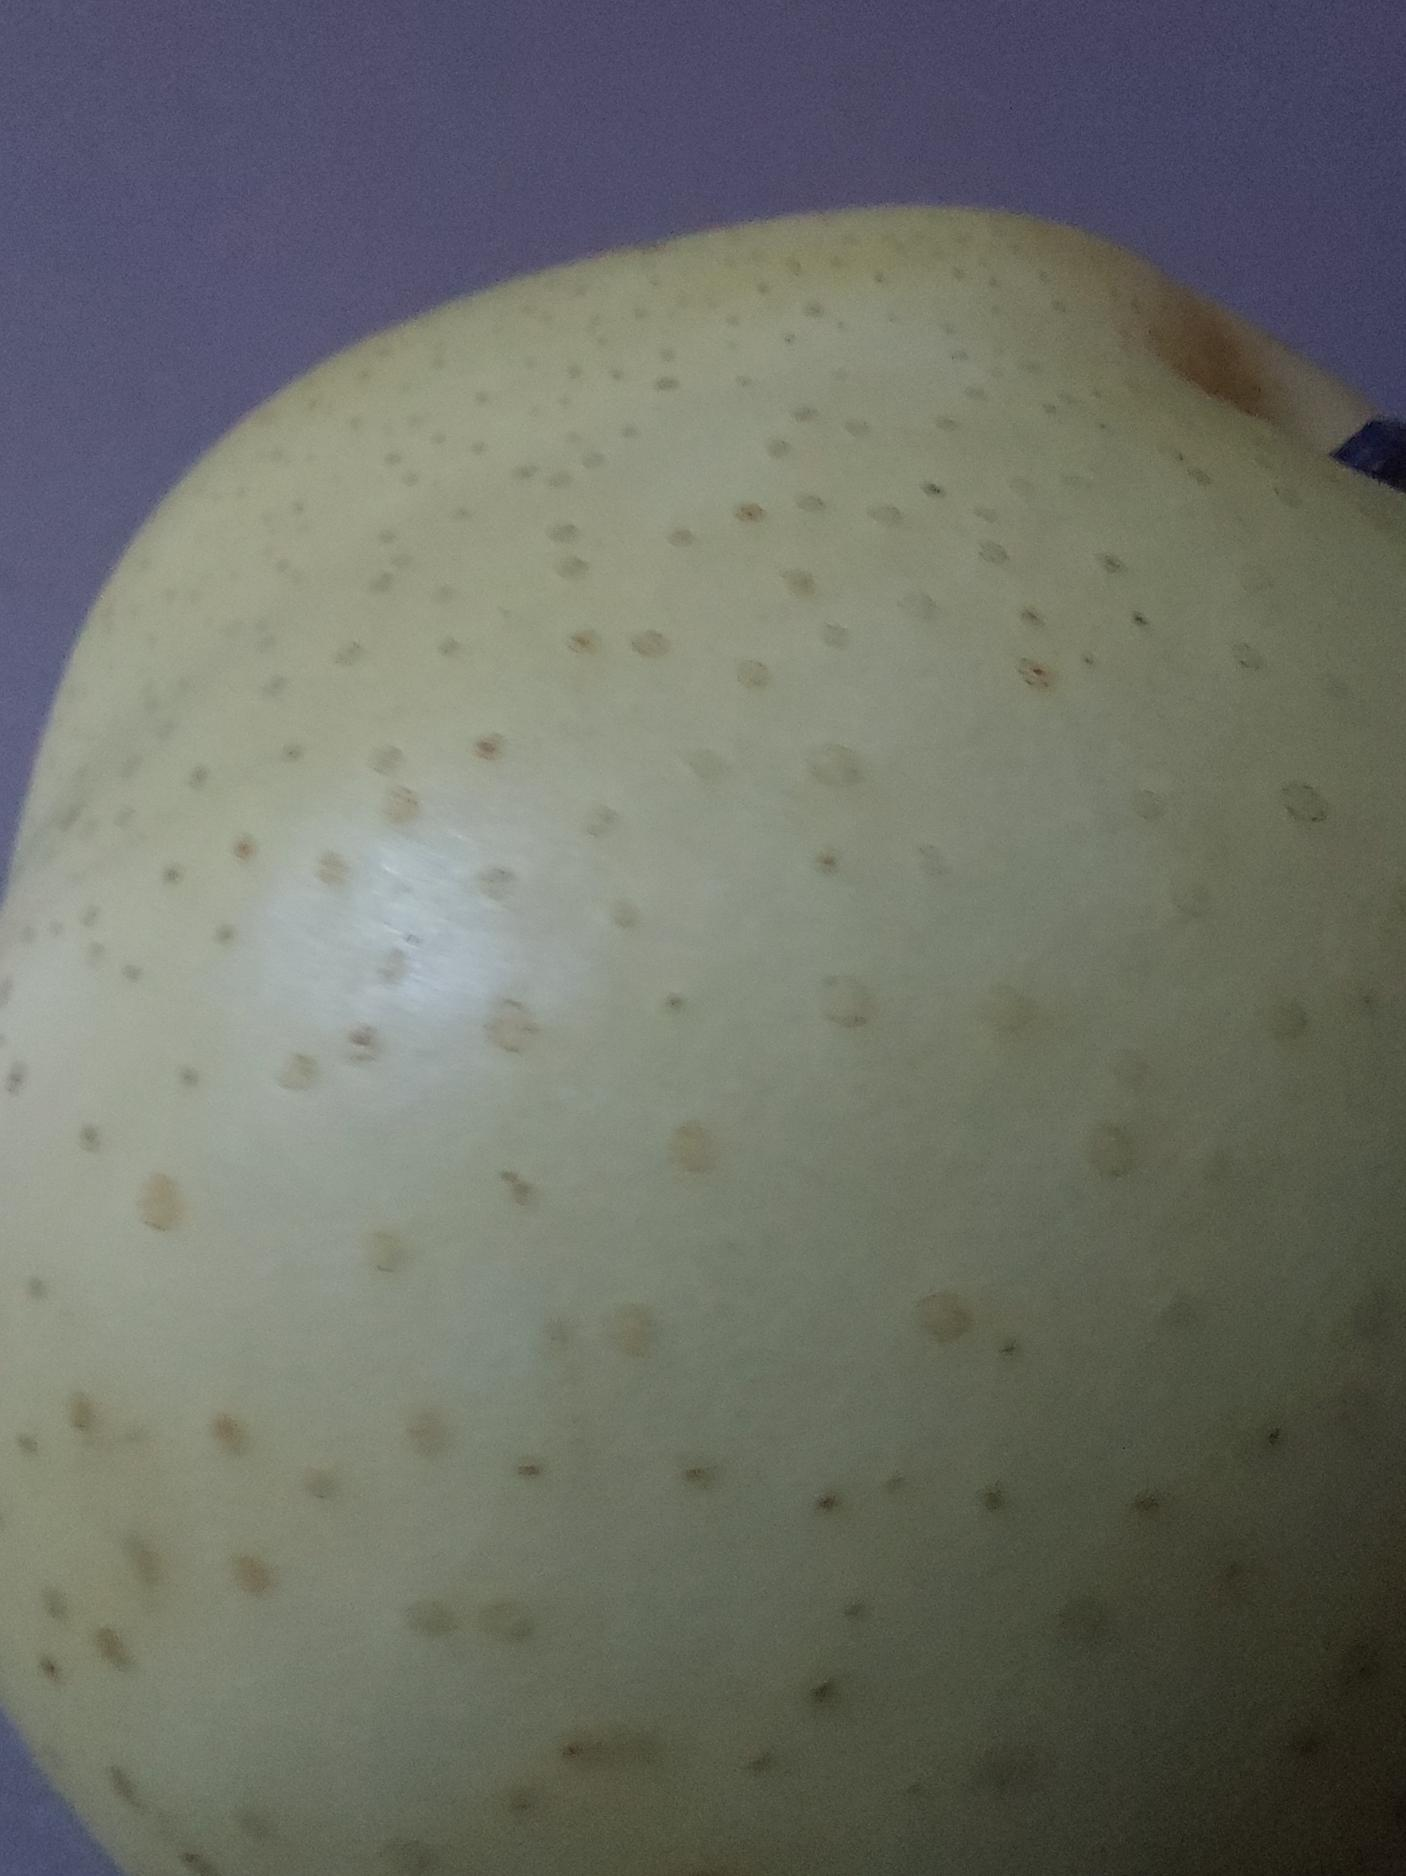Good Pear: (0, 196, 1406, 1876)
